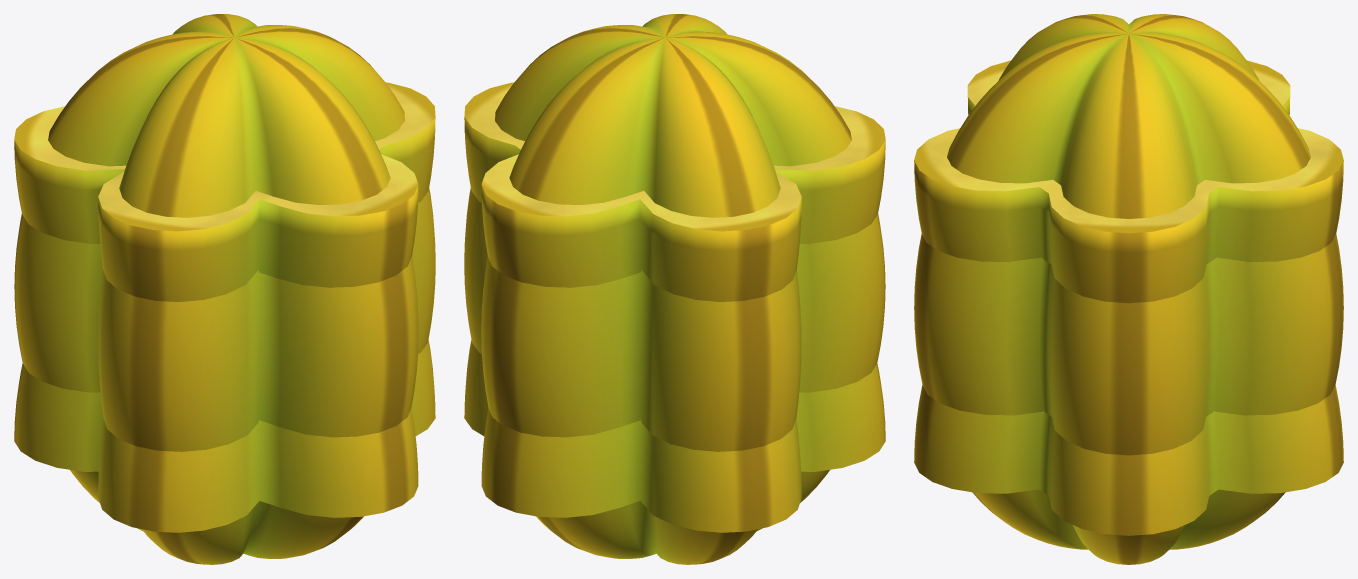
The model's file is starfruit.glb.
The picture shows the model from 3 angles, left to right: view 1: azimuth 30°, elevation 25°; view 2: azimuth 150°, elevation 25°; view 3: azimuth 270°, elevation 25°; orthographic projection.
Visible parts, largest first — view 1: whole, bot, top; view 2: whole, bot, top; view 3: whole, bot, top.
Part boxes in pixels (<box>): whole: <box>14,14,435,564</box>; bot: <box>14,82,435,301</box>; top: <box>14,340,435,532</box>; whole: <box>464,14,885,564</box>; bot: <box>464,82,885,301</box>; top: <box>464,340,885,532</box>; whole: <box>914,14,1343,564</box>; bot: <box>914,60,1343,303</box>; top: <box>914,385,1343,535</box>.
Size of the model in its own units: 0.5058 by 0.68 by 0.5223.
Materials: 2 (2 with a texture image).
